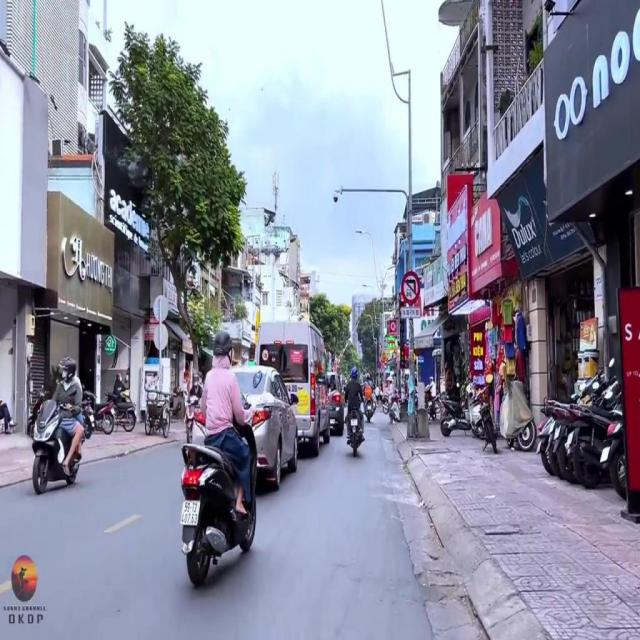cam_o_to_re_trai: (400, 268, 422, 306)
khac: (400, 305, 422, 320)
